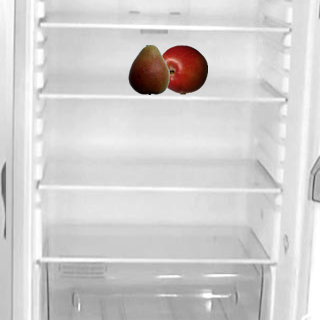Apple Braeburn: (157, 44, 207, 94)
Pear Forelle: (123, 44, 173, 94)
